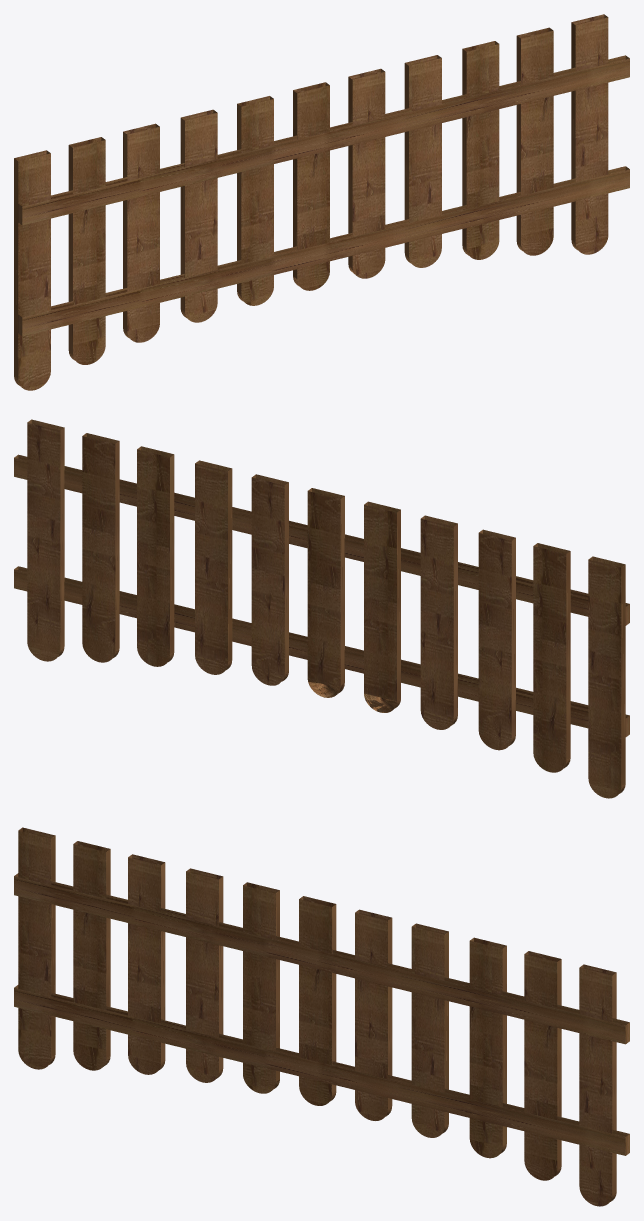
Rendered from GardenWall.fbx.
The picture shows the model from 3 angles, top to bottom: view 1: azimuth 30°, elevation 25°; view 2: azimuth 150°, elevation 25°; view 3: azimuth 330°, elevation 25°; orthographic projection.
Parts seen in each view (by area): view 1: Cadnav_com_B0503277:Rectangle05; view 2: Cadnav_com_B0503277:Rectangle05; view 3: Cadnav_com_B0503277:Rectangle05.
Boxes of the visible parts, box(x1,y1,x2,y2) form: Cadnav_com_B0503277:Rectangle05: box(14, 14, 629, 390); Cadnav_com_B0503277:Rectangle05: box(14, 419, 629, 798); Cadnav_com_B0503277:Rectangle05: box(14, 827, 629, 1206).
Size of the model in its own units: 637 by 233 by 15.36.
Materials: 1 (1 with a texture image).
